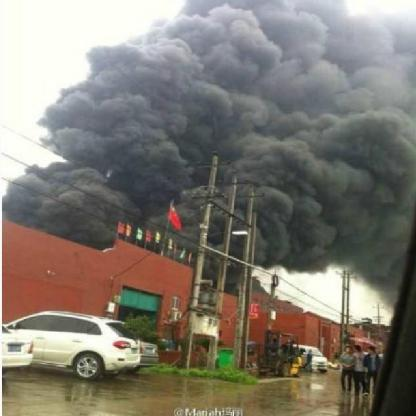smoke: (137, 146, 414, 264), (35, 43, 234, 152), (235, 41, 412, 146), (1, 159, 136, 244), (139, 1, 413, 42)
